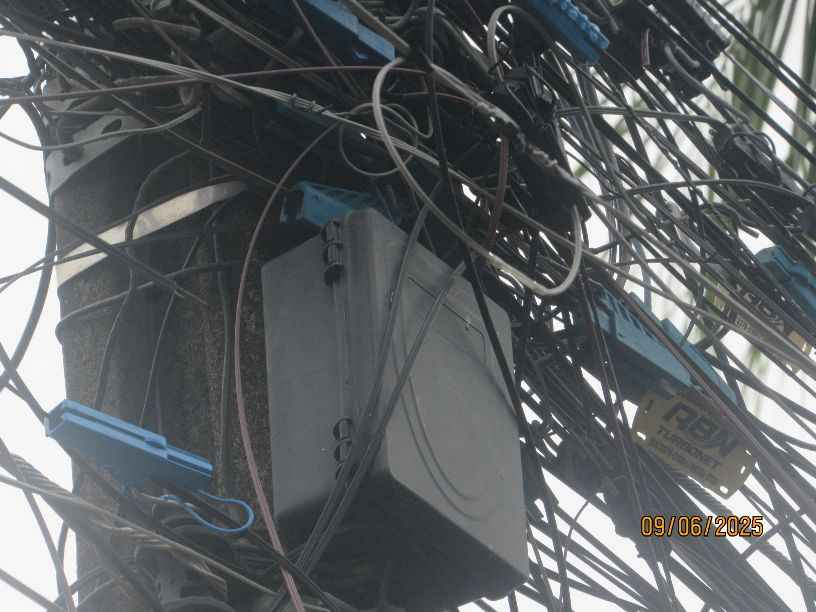caixa_derivacao: (250, 201, 528, 611)
drop: (41, 395, 214, 500), (515, 0, 611, 71)
fibra_optica: (604, 353, 783, 511)
